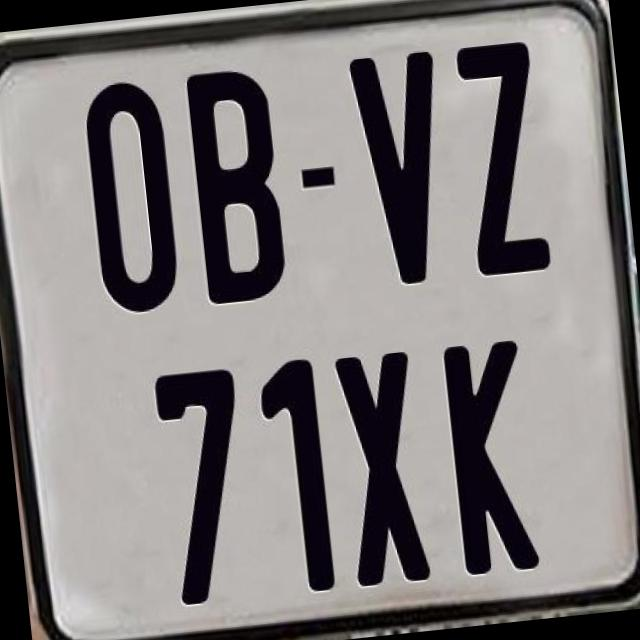0: (78, 73, 185, 319)
1: (256, 357, 341, 599)
7: (152, 366, 262, 610)
B: (182, 67, 290, 314)
K: (442, 336, 548, 573)
V: (346, 50, 460, 288)
X: (332, 351, 432, 595)
Z: (450, 39, 550, 278)
